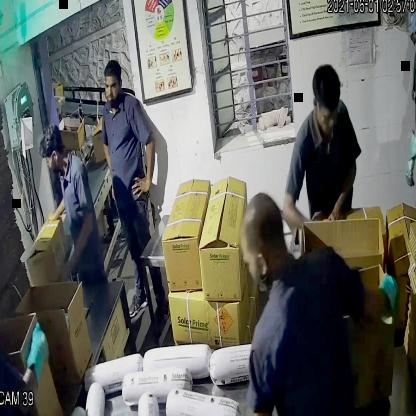no_goggles: (100, 75, 122, 98)
